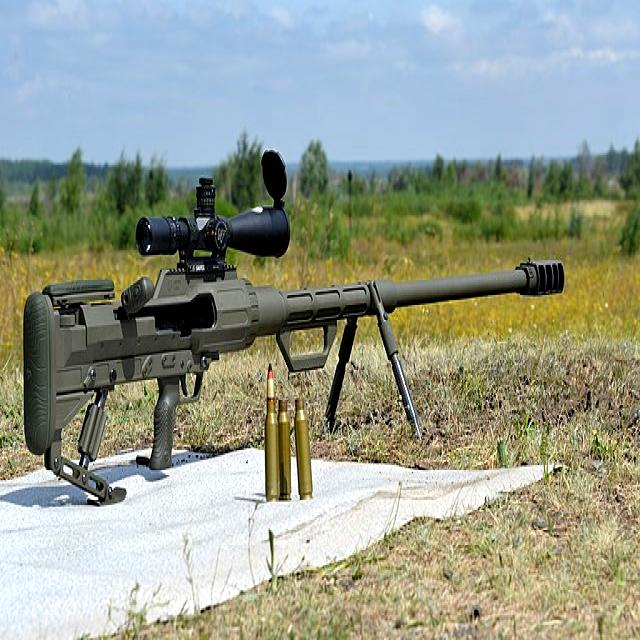rifle: (16, 172, 585, 456)
